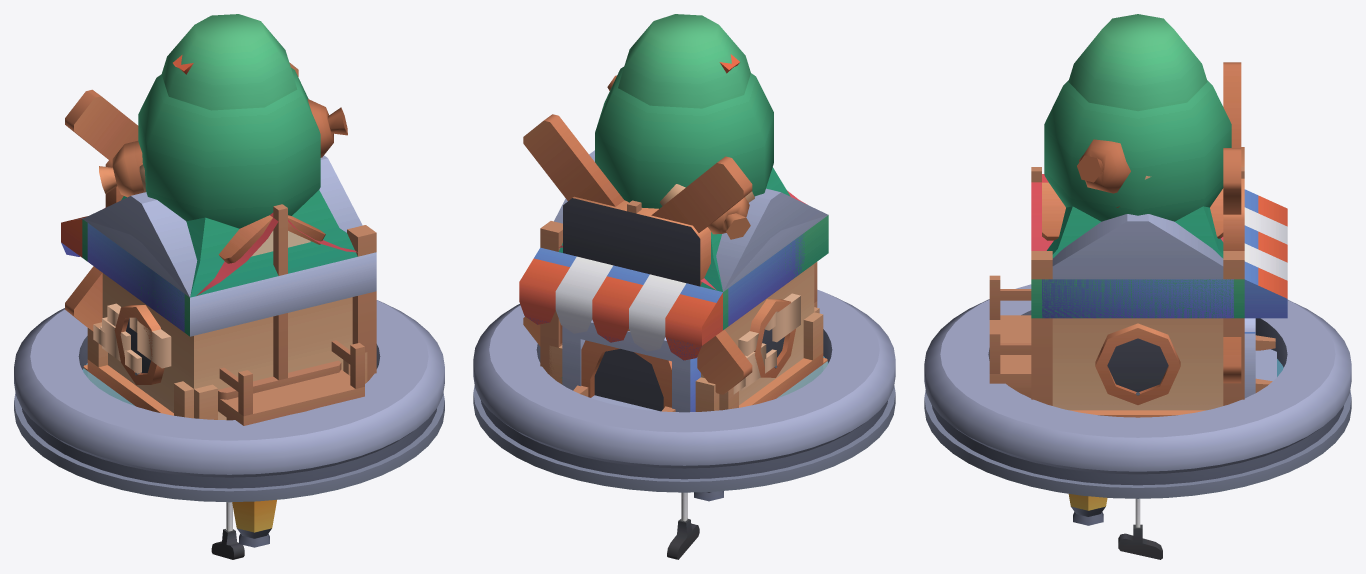
File: park.glb
3 views of the same model, side by side, from view 1: azimuth 30°, elevation 25°; view 2: azimuth 150°, elevation 25°; view 3: azimuth 270°, elevation 25° (orthographic).
Parts seen in each view (by area): view 1: fountain-round-detail, tree-large, ride-entrance, stall-drinks, stall-food, stall-information, cart, blades, stall-red, poles, queue-corner, windmill (+2 smaller); view 2: fountain-round-detail, tree-large, stall-drinks, ride-entrance, stall-food, blades, stall-information, OuterShell, poles, queue-corner, queue-straight, club-red; view 3: fountain-round-detail, tree-large, stall-information, ride-entrance, stall-food, cart, poles, stall-drinks, blades, windmill, stall-red, club-red (+1 smaller).
Part boxes in pixels (bbox=[...]): fountain-round-detail: bbox=[14, 300, 444, 502]; tree-large: bbox=[138, 14, 320, 228]; ride-entrance: bbox=[82, 160, 357, 420]; stall-drinks: bbox=[61, 55, 376, 415]; stall-food: bbox=[61, 99, 362, 330]; stall-information: bbox=[87, 223, 193, 412]; cart: bbox=[218, 340, 364, 425]; blades: bbox=[65, 62, 298, 331]; stall-red: bbox=[104, 204, 357, 401]; poles: bbox=[347, 225, 376, 381]; queue-corner: bbox=[87, 322, 367, 419]; windmill: bbox=[218, 215, 325, 263]; fountain-round-detail: bbox=[473, 289, 895, 492]; tree-large: bbox=[595, 14, 773, 208]; stall-drinks: bbox=[519, 54, 827, 411]; ride-entrance: bbox=[558, 167, 828, 404]; stall-food: bbox=[534, 75, 828, 412]; blades: bbox=[523, 114, 752, 394]; stall-information: bbox=[580, 233, 823, 411]; OuterShell: bbox=[581, 328, 671, 411]; poles: bbox=[540, 221, 562, 376]; queue-corner: bbox=[719, 307, 823, 410]; queue-straight: bbox=[549, 307, 818, 411]; club-red: bbox=[667, 492, 699, 559]; fountain-round-detail: bbox=[924, 284, 1351, 498]; tree-large: bbox=[1044, 14, 1231, 221]; stall-information: bbox=[1042, 279, 1255, 417]; ride-entrance: bbox=[1031, 147, 1244, 417]; stall-food: bbox=[1052, 139, 1287, 398]; cart: bbox=[989, 275, 1275, 398]; poles: bbox=[1031, 251, 1244, 405]; stall-drinks: bbox=[1070, 195, 1287, 414]; blades: bbox=[1223, 62, 1241, 383]; windmill: bbox=[1042, 182, 1223, 240]; stall-red: bbox=[1031, 167, 1244, 250]; club-red: bbox=[1118, 498, 1162, 559].
Bounding box in the file's own units: 2 × 2.73 × 2.
Materials: 4 (3 with a texture image).
